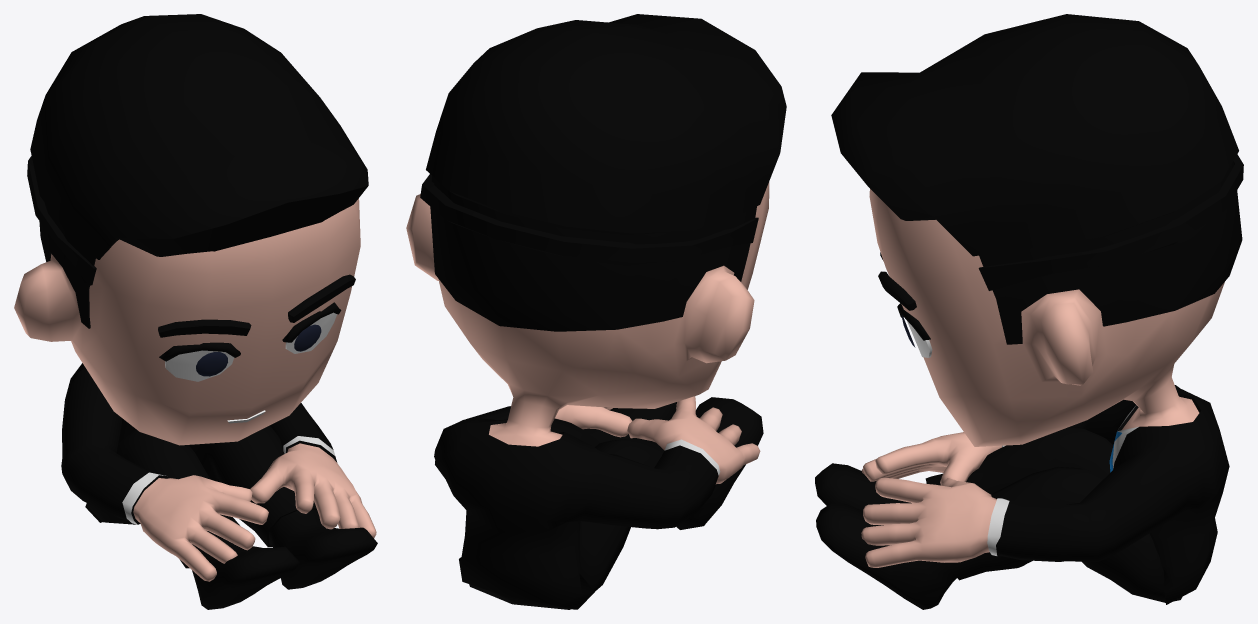
Rendered from Personajes_juzgado.fbx.
3 views of the same model, side by side, from view 1: azimuth 30°, elevation 25°; view 2: azimuth 150°, elevation 25°; view 3: azimuth 270°, elevation 25° (orthographic). The views are drawn at different scales.
Parts seen in each view (by area): view 1: hair3, body.001, shirt3.001, socks.001, pants1.001, eyesbase2.001, eyebrows1.001, eyes6.001; view 2: hair3, body.001, shirt3.001, pants1.001, socks.001; view 3: hair3, body.001, shirt3.001, pants1.001, socks.001, eyesbase2.001, eyebrows1.001.
Part boxes in pixels (box(x1,y1,x2,y2)): hair3: box(27, 14, 368, 328); body.001: box(14, 198, 376, 581); shirt3.001: box(61, 363, 337, 524); socks.001: box(192, 509, 377, 609); pants1.001: box(88, 425, 318, 568); eyesbase2.001: box(159, 302, 341, 381); eyebrows1.001: box(158, 274, 355, 337); eyes6.001: box(196, 324, 321, 376); hair3: box(420, 14, 786, 331); body.001: box(406, 182, 769, 483); shirt3.001: box(434, 406, 720, 609); pants1.001: box(469, 418, 664, 609); socks.001: box(609, 397, 763, 529); hair3: box(831, 14, 1243, 344); body.001: box(861, 189, 1224, 567); shirt3.001: box(987, 385, 1229, 604); pants1.001: box(925, 427, 1182, 602); socks.001: box(815, 463, 956, 609); eyesbase2.001: box(897, 303, 932, 357); eyebrows1.001: box(878, 252, 916, 310).
Bounding box in the file's own units: 74.68 × 112 × 79.36.
